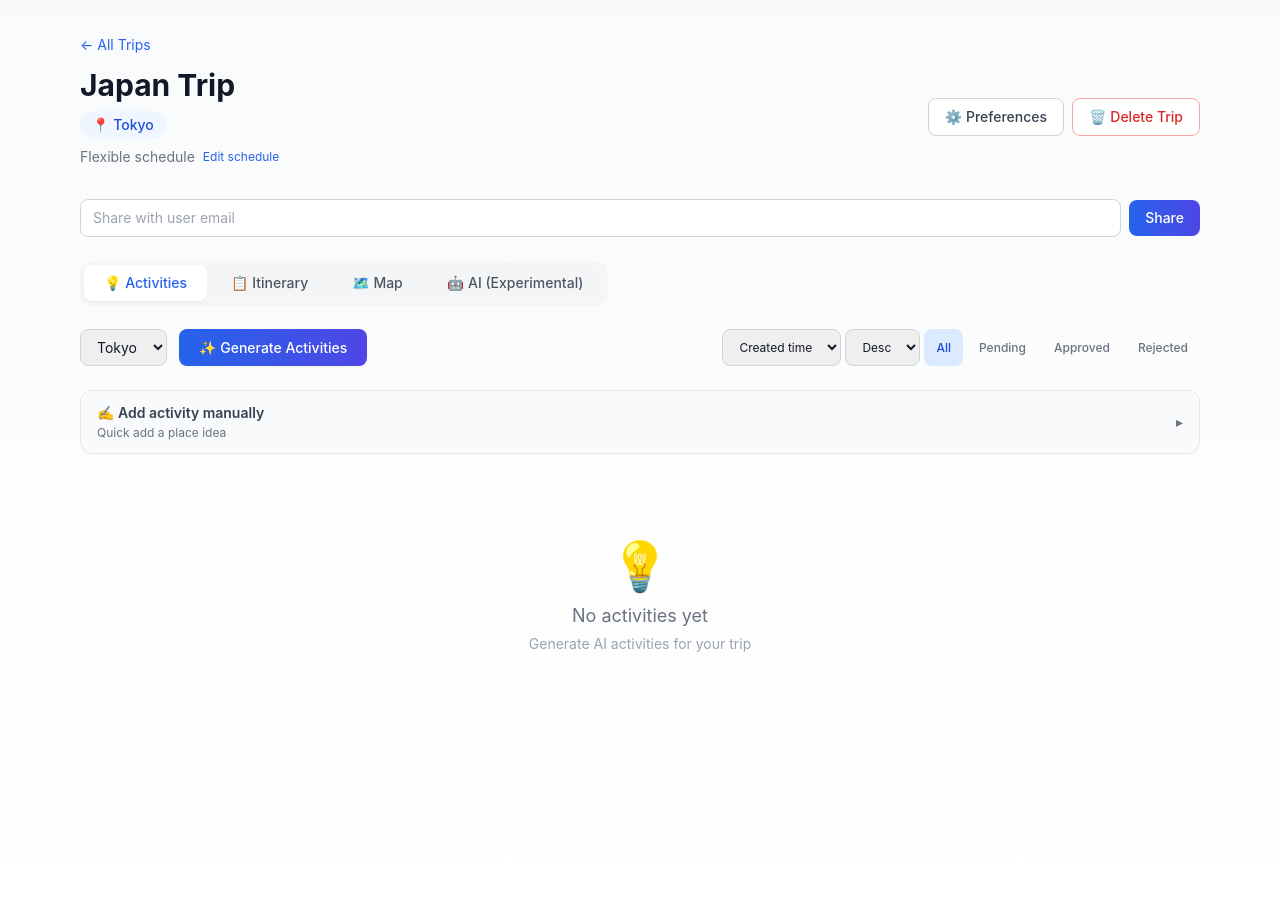
Test: Trip detail chat planner › previews and confirms chat actions, then updates activity list
Expected: the heading "Japan Trip" is shown, [80,67,235,103]
Click the button "🤖 AI (Experimental)": (515, 283) [427,265,603,301]
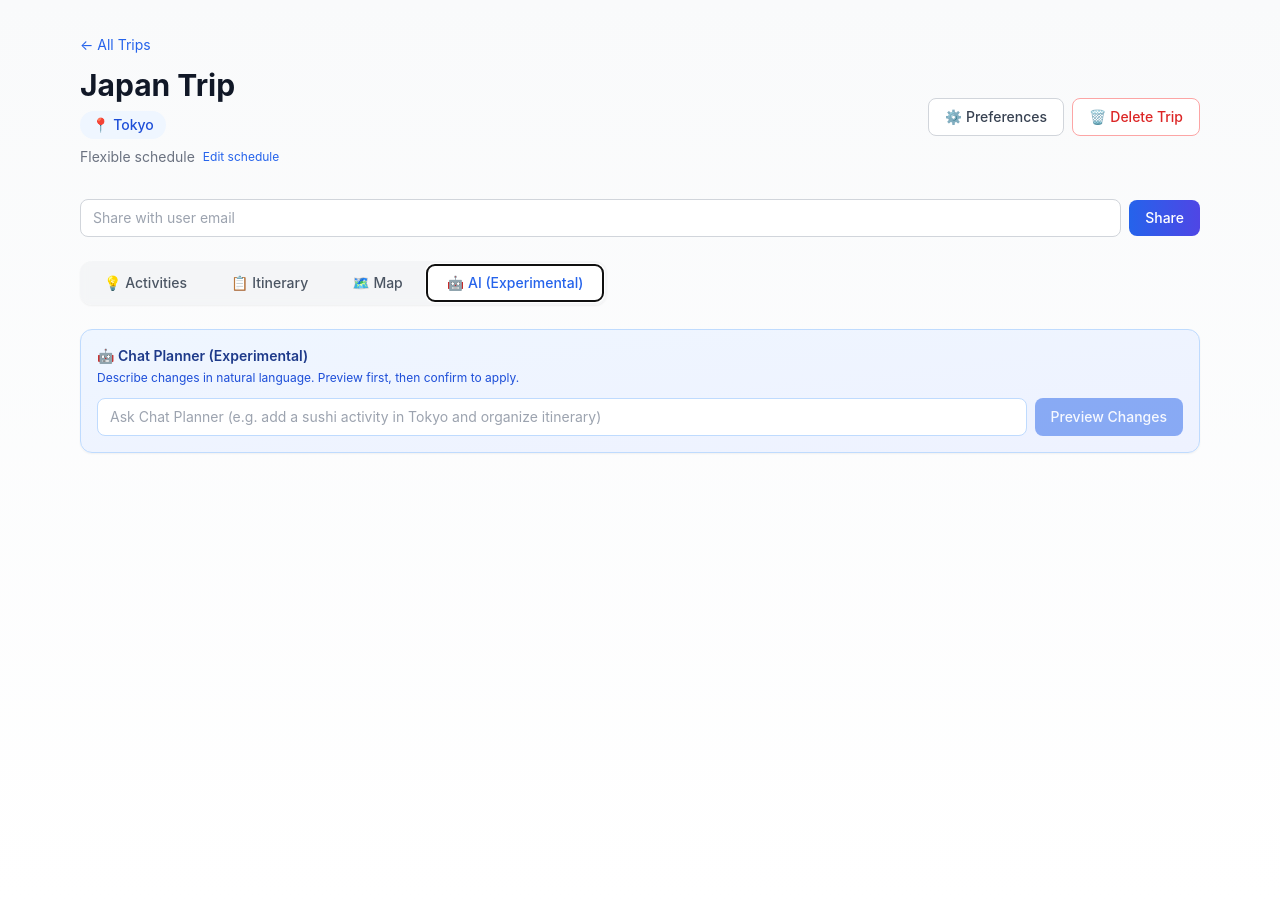
In the field with placeholder "Ask Chat Planner": (562, 417) [97,398,1026,436], type "Add Senso-ji activity"
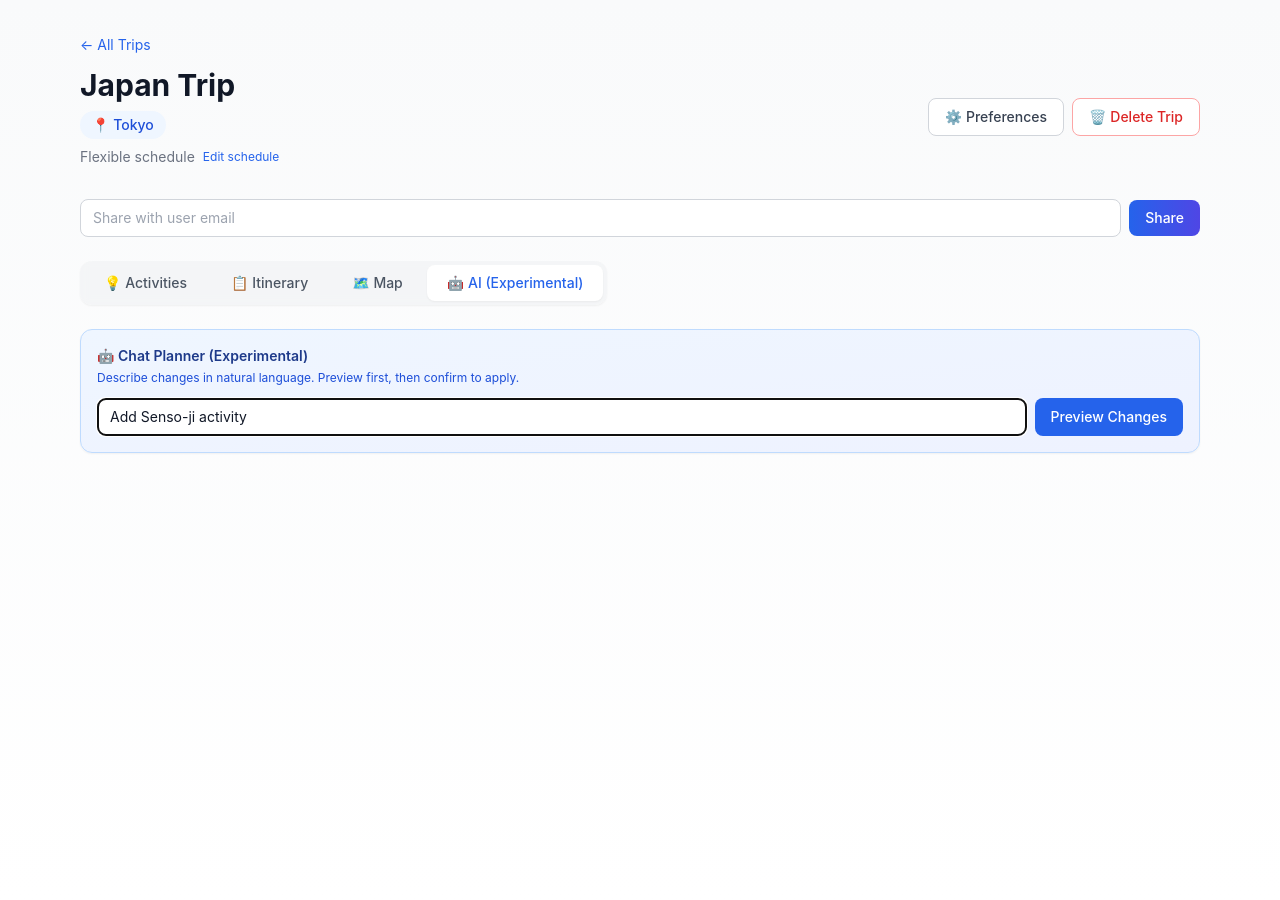
Click the button "Preview Changes": (1109, 417) [1034,398,1183,436]
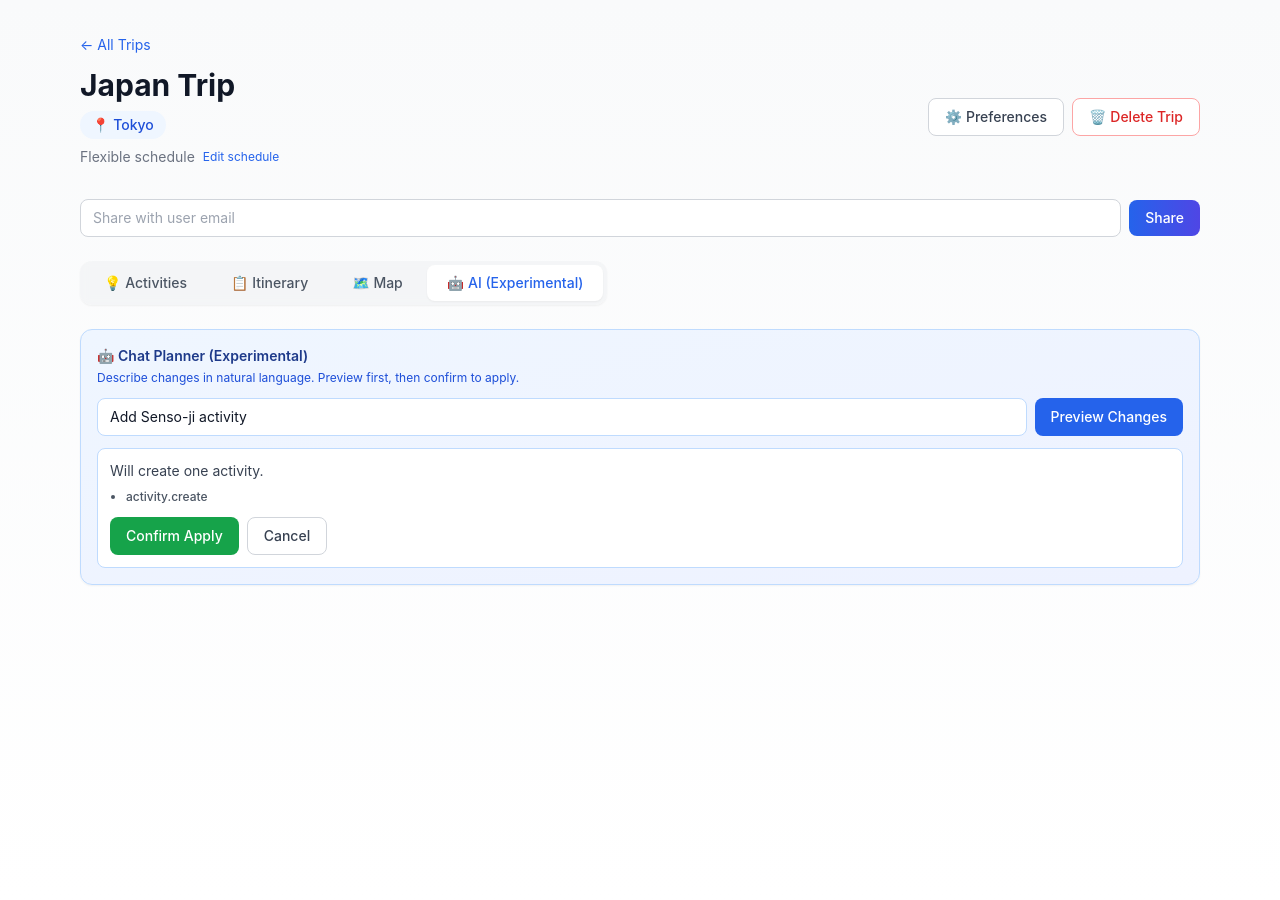
Result: the text "Will create one activity." is shown at [110,462,264,479]
Click the button "Confirm Apply": (174, 536) [110,517,239,555]
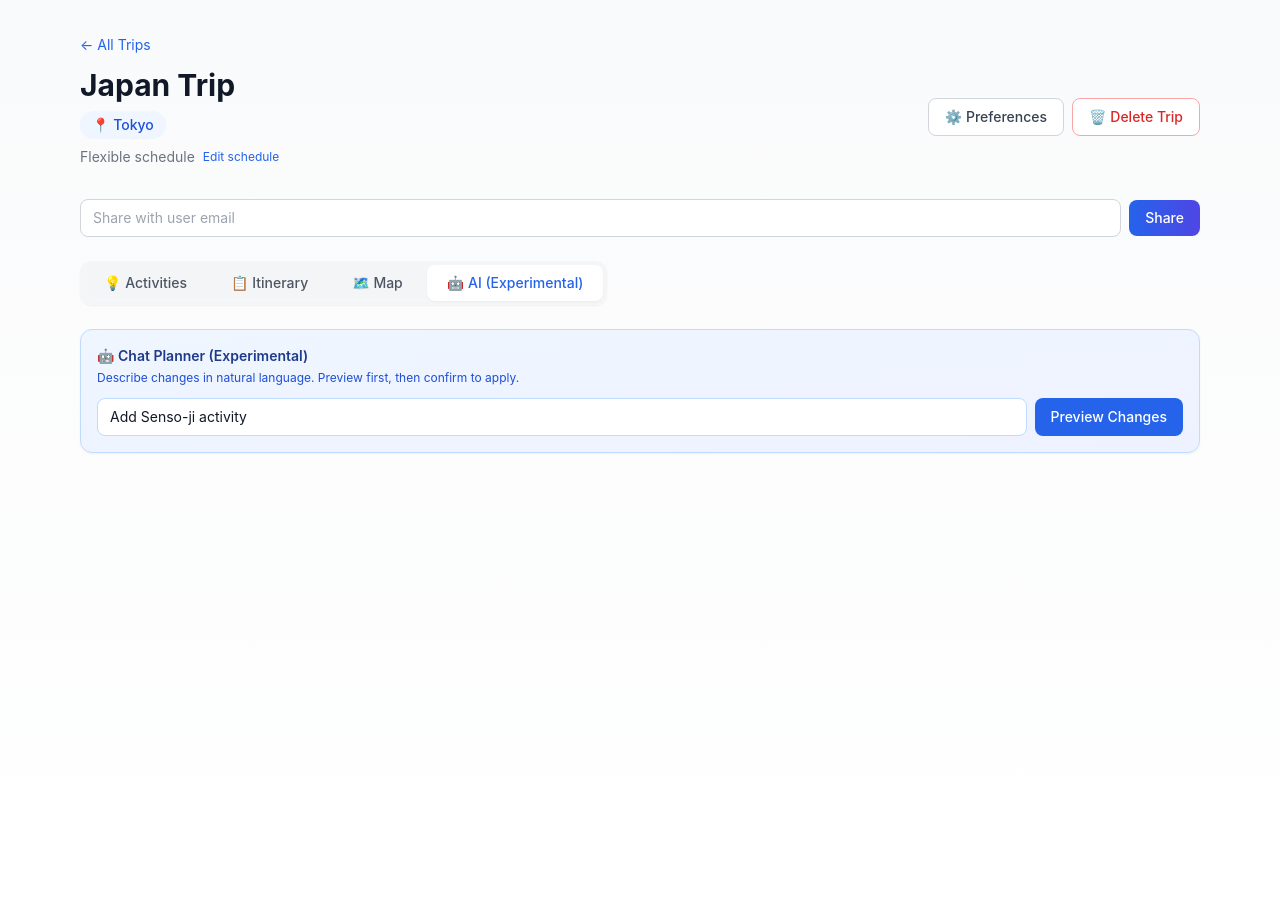
Click the button "💡 Activities": (146, 283) [84,265,207,301]
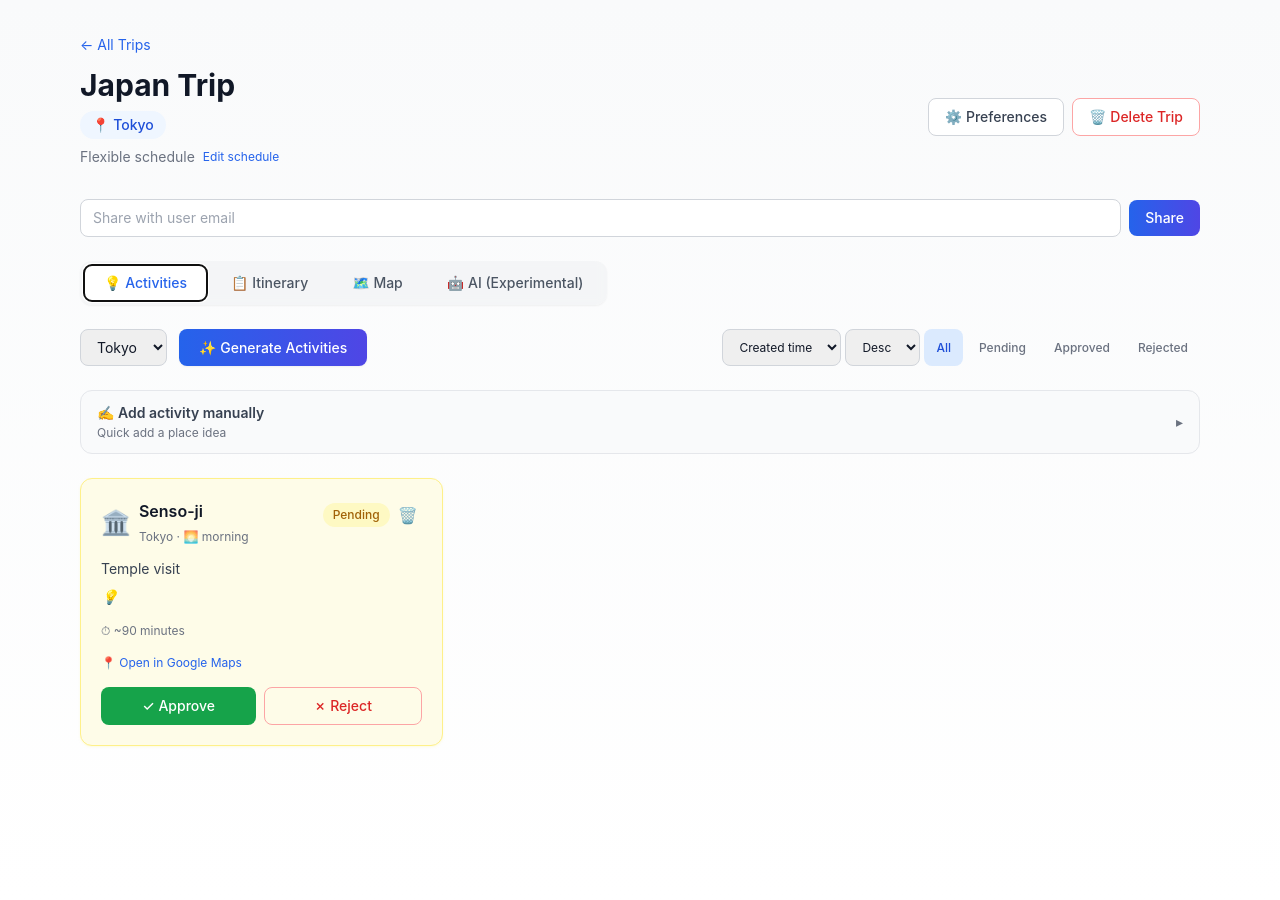
Result: the heading "Senso-ji" is shown at [139,501,203,521]
